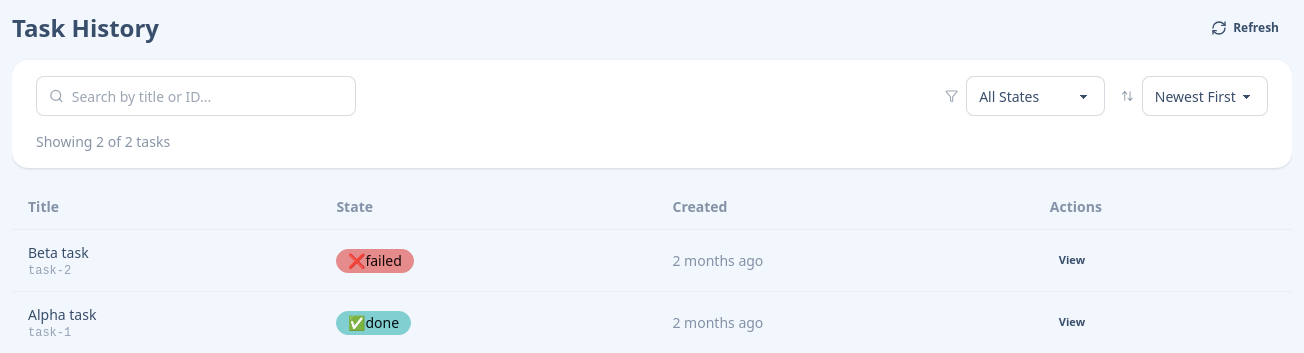
History page › renders tasks and supports search filter
Check: the link "Alpha task" is shown, box [28,305,96,324]
Check: the link "Beta task" is shown, box [28,243,89,262]
Type "Alpha" into the field with placeholder "Search by title or ID..." at (207, 96), box [72,77,343,115]
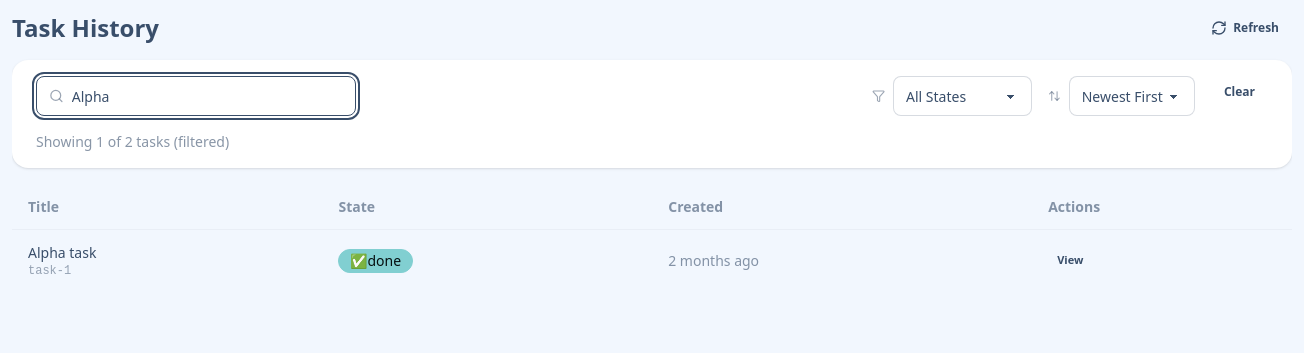
Check: the link "Alpha task" is shown, box [28,243,96,262]
Check: the link "Beta task" is gone
